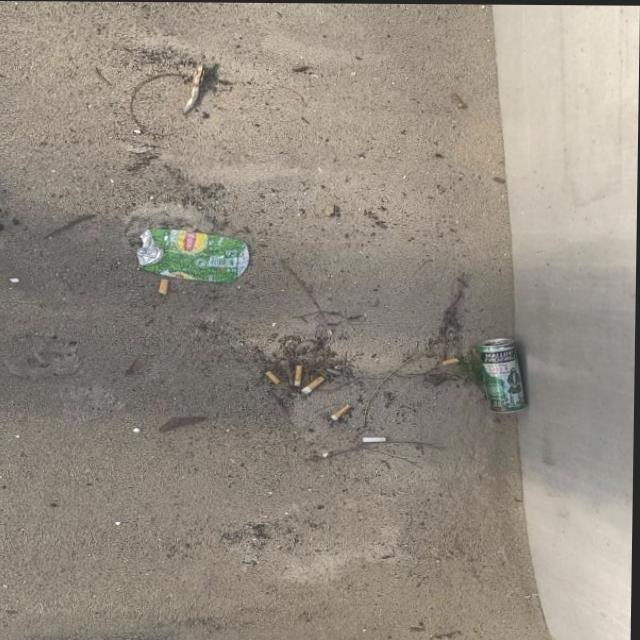Can-Metal: (135, 224, 253, 285), (474, 335, 533, 413)
